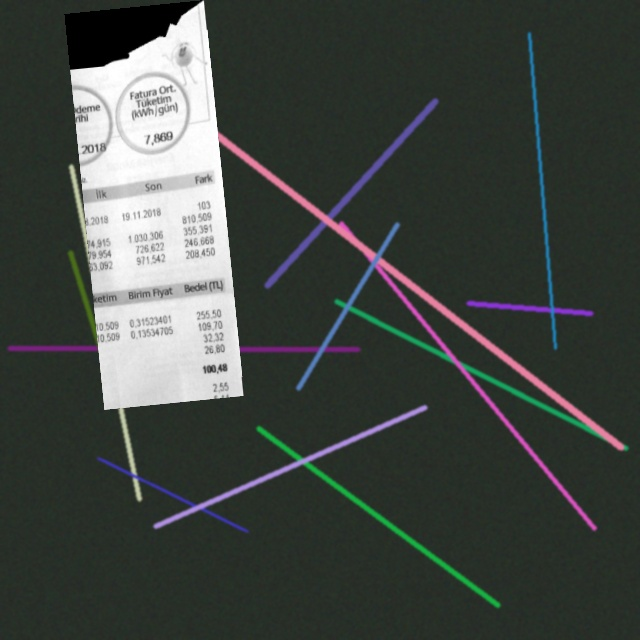electricity-bill: (64, 0, 244, 409)
